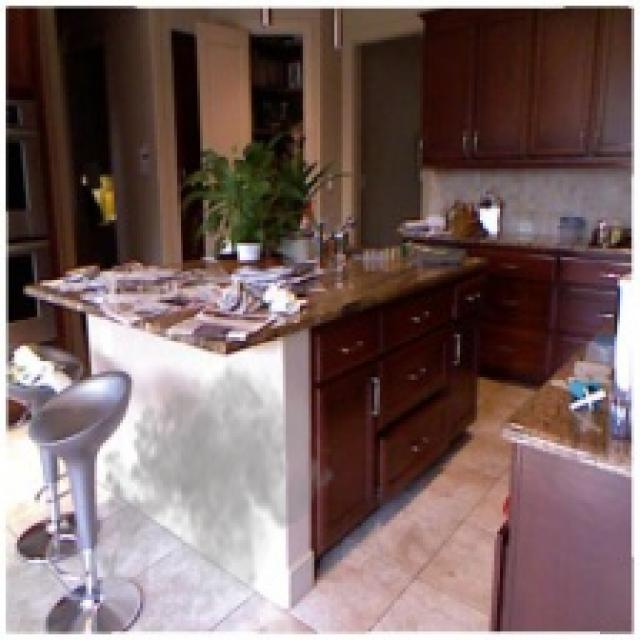smoke: (89, 354, 337, 620)
